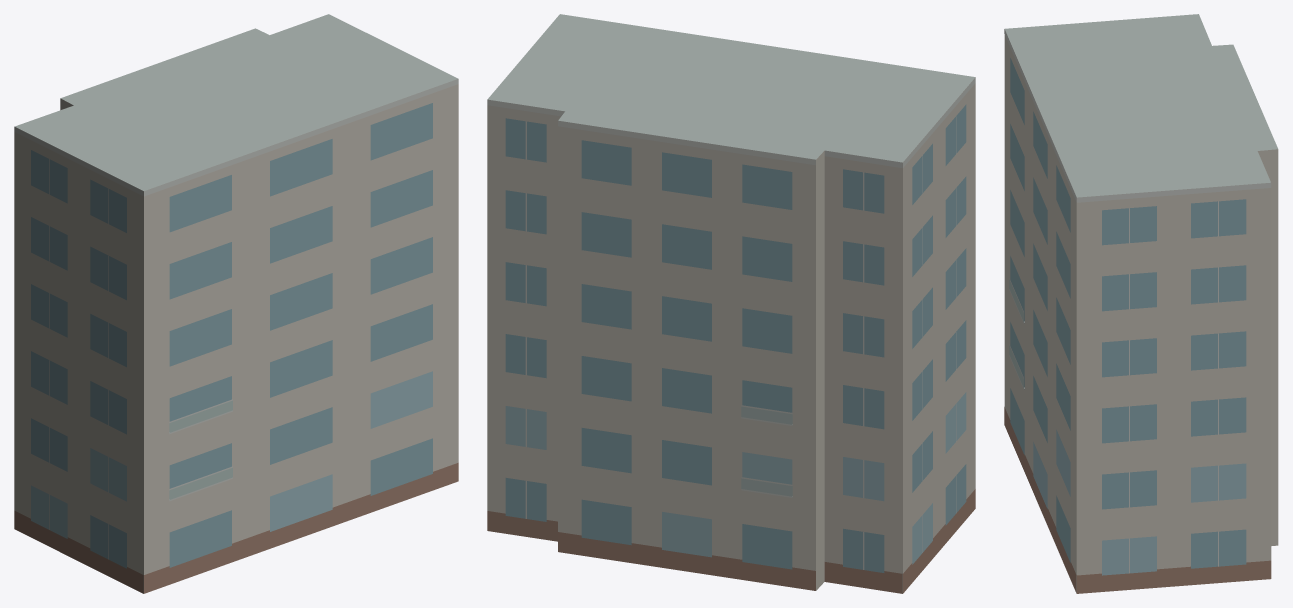
Rendered from survey-upis-32890802.glb.
The picture shows the model from 3 angles, left to right: view 1: azimuth 30°, elevation 25°; view 2: azimuth 150°, elevation 25°; view 3: azimuth 270°, elevation 25°; orthographic projection. The views are drawn at different scales.
Visible parts, largest first — view 1: survey-upis-32890802.tmp; view 2: survey-upis-32890802.tmp; view 3: survey-upis-32890802.tmp.
Part boxes in pixels (x1,y1,x2,y2): survey-upis-32890802.tmp: [14, 14, 458, 593]; survey-upis-32890802.tmp: [487, 14, 975, 593]; survey-upis-32890802.tmp: [1004, 14, 1278, 593].
Bounding box in the file's own units: 18.39 × 18.5 × 11.6.
